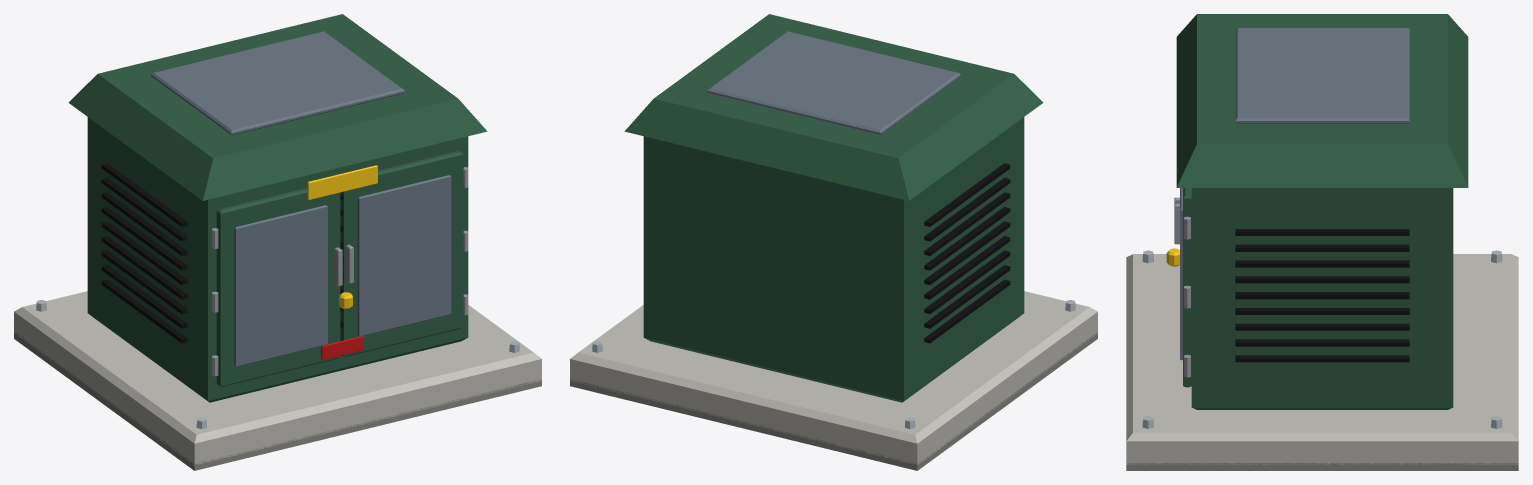
File: UTILITY_03.obj
3 views of the same model, side by side, from view 1: azimuth 30°, elevation 25°; view 2: azimuth 150°, elevation 25°; view 3: azimuth 270°, elevation 25° (orthographic). The views are drawn at different scales.
Parts seen in each view (by area): view 1: UTILITY_03__pad, UTILITY_03__roof, UTILITY_03__door_panel, UTILITY_03__cabinet, UTILITY_03__door, UTILITY_03__roof_cap, UTILITY_03__vent_side, UTILITY_03__pad_edge, UTILITY_03__warning_label, UTILITY_03__hinge, UTILITY_03__handle, UTILITY_03__danger_label; view 2: UTILITY_03__cabinet, UTILITY_03__pad, UTILITY_03__roof, UTILITY_03__roof_cap, UTILITY_03__vent_side, UTILITY_03__pad_edge; view 3: UTILITY_03__cabinet, UTILITY_03__pad, UTILITY_03__roof, UTILITY_03__roof_cap, UTILITY_03__vent_side, UTILITY_03__pad_edge, UTILITY_03__door, UTILITY_03__pad_bolts, UTILITY_03__door_panel, UTILITY_03__hinge.
Part boxes in pixels (x1,y1,x2,y2): UTILITY_03__pad: [14, 291, 541, 465]; UTILITY_03__roof: [68, 14, 487, 200]; UTILITY_03__door_panel: [234, 175, 451, 366]; UTILITY_03__cabinet: [87, 117, 468, 402]; UTILITY_03__door: [216, 151, 463, 386]; UTILITY_03__roof_cap: [151, 31, 404, 135]; UTILITY_03__vent_side: [101, 163, 187, 343]; UTILITY_03__pad_edge: [14, 332, 541, 470]; UTILITY_03__warning_label: [307, 165, 377, 199]; UTILITY_03__hinge: [212, 167, 468, 376]; UTILITY_03__handle: [334, 244, 353, 286]; UTILITY_03__danger_label: [321, 336, 363, 360]; UTILITY_03__cabinet: [643, 117, 1024, 402]; UTILITY_03__pad: [570, 291, 1097, 465]; UTILITY_03__roof: [624, 14, 1043, 200]; UTILITY_03__roof_cap: [707, 31, 960, 135]; UTILITY_03__vent_side: [924, 163, 1010, 343]; UTILITY_03__pad_edge: [570, 332, 1097, 470]; UTILITY_03__cabinet: [1191, 188, 1453, 409]; UTILITY_03__pad: [1126, 254, 1518, 464]; UTILITY_03__roof: [1176, 14, 1468, 187]; UTILITY_03__roof_cap: [1235, 28, 1409, 123]; UTILITY_03__vent_side: [1235, 229, 1409, 362]; UTILITY_03__pad_edge: [1126, 463, 1518, 470]; UTILITY_03__door: [1183, 188, 1191, 387]; UTILITY_03__pad_bolts: [1142, 250, 1502, 428]; UTILITY_03__door_panel: [1180, 188, 1182, 360]; UTILITY_03__hinge: [1184, 216, 1190, 377].
Size of the model in its own units: 2 by 1.55 by 1.8.
